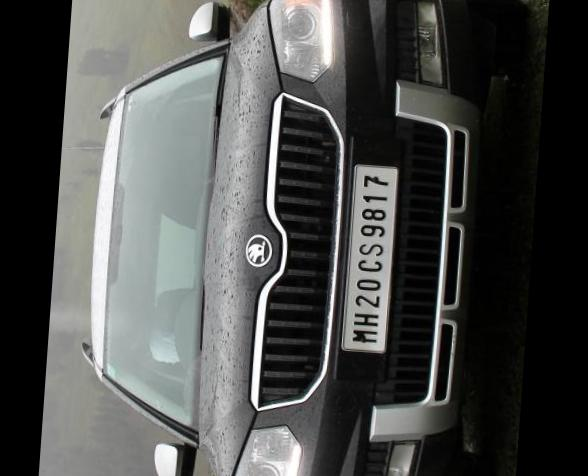plate: (326, 156, 412, 358)
